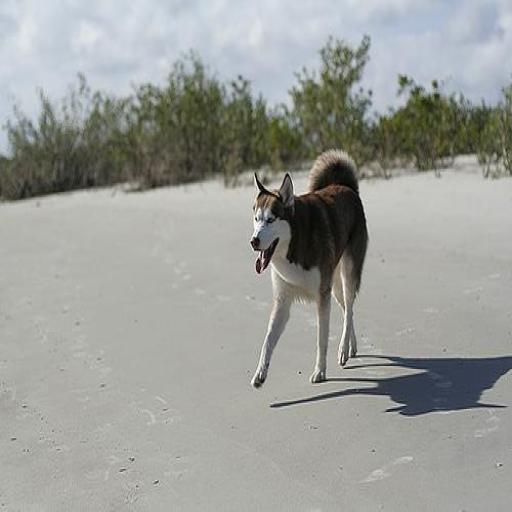dog_face: (248, 168, 294, 270)
